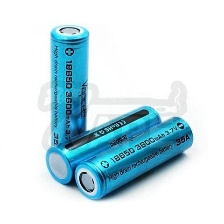battery: (72, 113, 195, 205), (44, 104, 164, 186), (48, 22, 90, 159)
